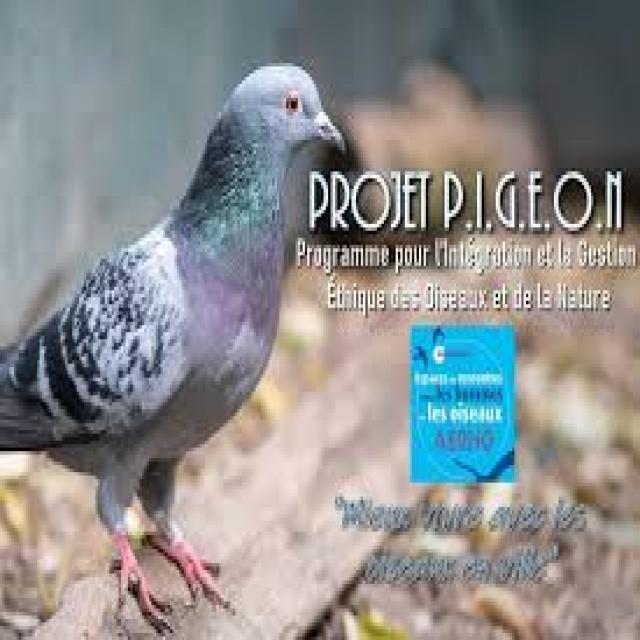pigeon: (1, 55, 353, 515)
